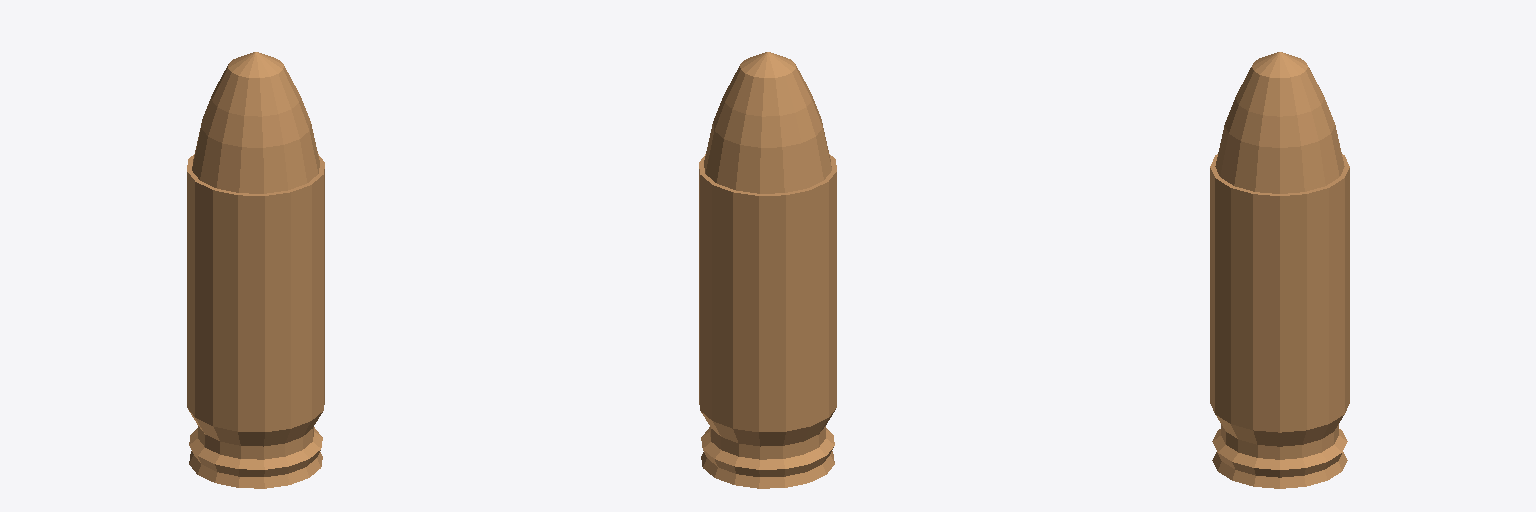
File: bullets.obj
The picture shows the model from 3 angles: view 1: azimuth 30°, elevation 25°; view 2: azimuth 150°, elevation 25°; view 3: azimuth 270°, elevation 25°; orthographic projection.
Visible parts, largest first — view 1: Cylinder; view 2: Cylinder; view 3: Cylinder.
Part boxes in pixels (x1,y1,x2,y2): Cylinder: (187,52,324,488); Cylinder: (699,52,836,488); Cylinder: (1210,52,1349,488).
Size of the model in its own units: 2 by 6.45 by 2.